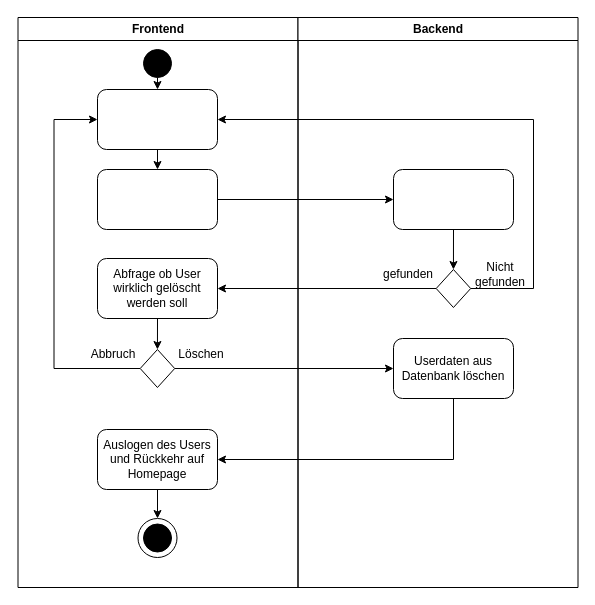
Some shapes in this 595 by 605 pixel diagram are drawn without their labels. The shapes that lost their labels are listed below. From the top down, each one's centre as x and y in pixels, then its label:
At pixel 157 119: "Aufruf Loginpage".
At pixel 157 199: "Eingabe des zu löschenden Users und Passwort".
At pixel 453 199: "User in Datenbank vorhanden".
